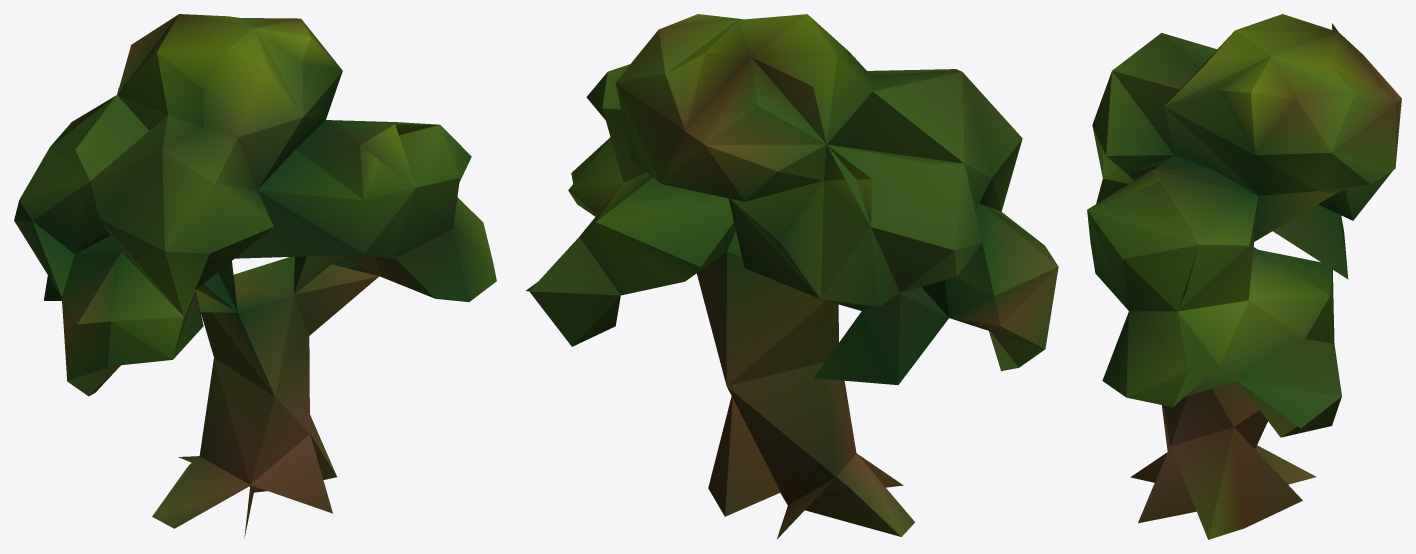
The model's file is tree-oak.glb.
3 renders of one model, left to right at view 1: azimuth 30°, elevation 25°; view 2: azimuth 150°, elevation 25°; view 3: azimuth 270°, elevation 25°, orthographic. The views are drawn at different scales.
Parts seen in each view (by area): view 1: tree-oak-far; view 2: tree-oak-far; view 3: tree-oak-far.
Boxes of the visible parts, left/top/right/bottom form: tree-oak-far: left=14, top=14, right=496, bottom=538; tree-oak-far: left=526, top=14, right=1058, bottom=538; tree-oak-far: left=1087, top=14, right=1401, bottom=539.
Size of the model in its own units: 9.41 by 9.55 by 5.85.
